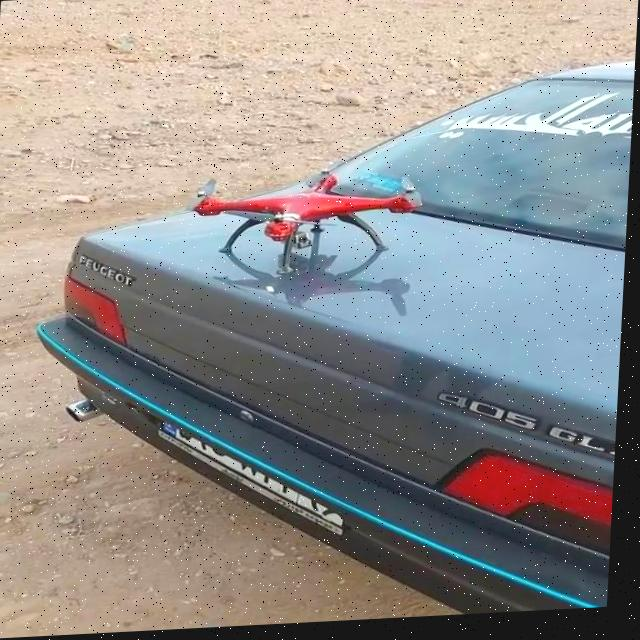drone: (181, 156, 428, 285)
